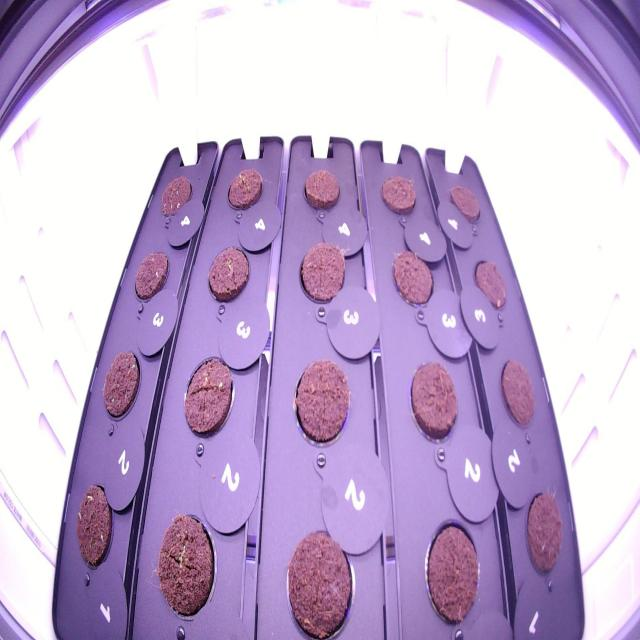pod: (278, 522, 359, 640), (148, 505, 225, 627), (416, 512, 484, 631), (286, 352, 353, 451), (403, 355, 462, 453), (179, 349, 237, 442), (518, 483, 567, 584), (71, 479, 117, 578), (294, 236, 349, 314), (97, 339, 144, 429), (495, 351, 539, 434), (201, 240, 253, 310), (388, 245, 438, 314), (467, 248, 510, 312), (296, 162, 343, 216), (131, 247, 171, 310), (156, 168, 195, 226), (223, 164, 266, 215), (377, 170, 419, 222), (445, 178, 484, 230)
